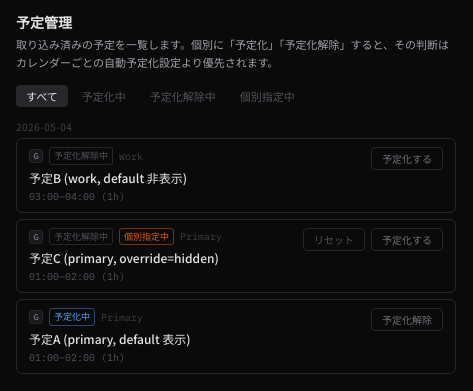
Scenario: EventManagement (Issue #145) › 「予定化中」フィルタで effective shown のみ表示
This screenshot has width=473, height=391.
Click the tab "予定化中": {"x": 104, "y": 96} [72,85,136,107]
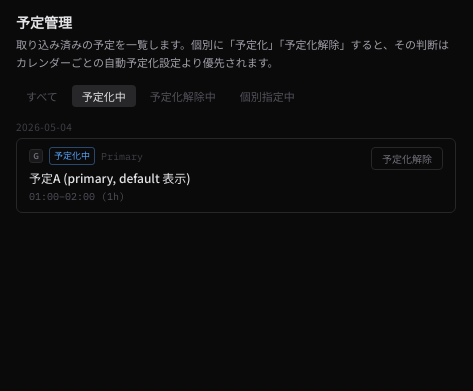
expect the text "予定A (primary, default 表示)" is shown: met, box [29,169,191,186]
expect the text "予定B" is gone: met
expect the text "予定C" is gone: met
